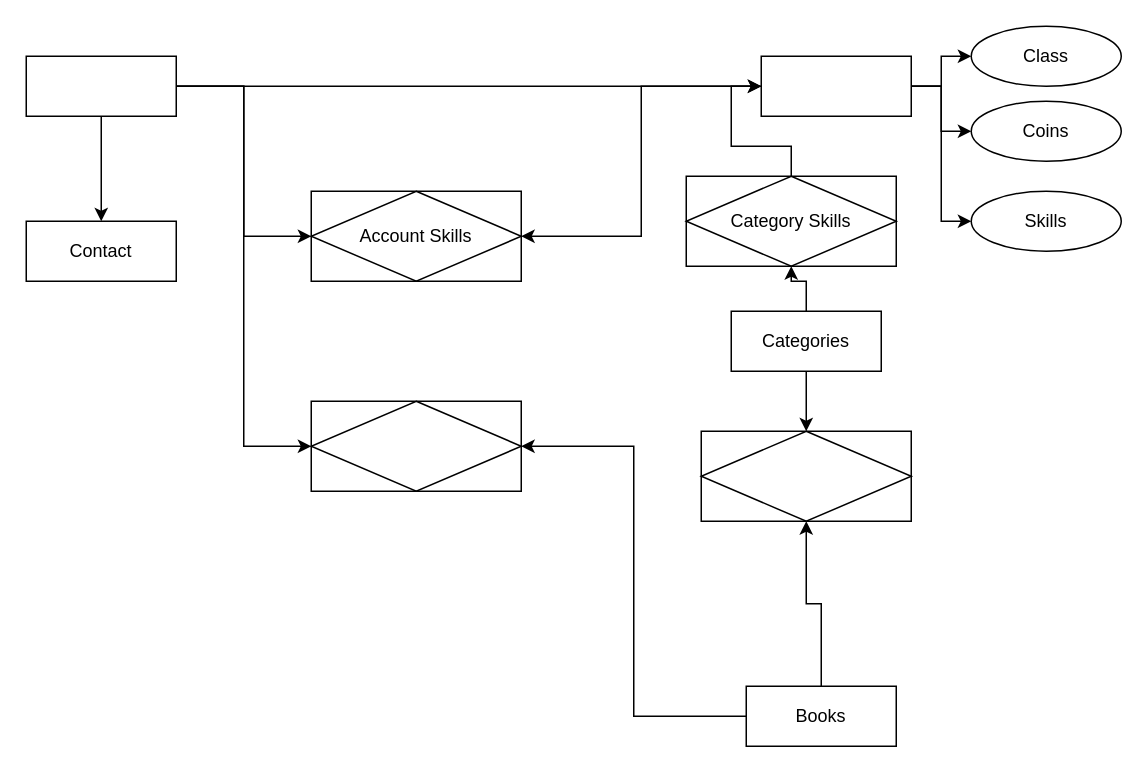
Image size: 1148x773. Some labels were removed from this diagram. The shapes that lost their labels are listed below. From the top down, each one's centre as x and y in pixels, then its label:
At pixel 100 85: "Account".
At pixel 835 85: "Product2".
At pixel 415 445: "Bookshelf".
At pixel 805 475: "Book Categories".
